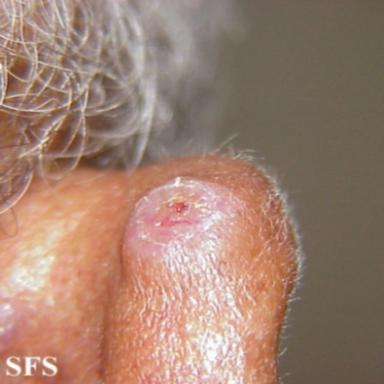basal-cell-carcinoma: (128, 177, 239, 254)
